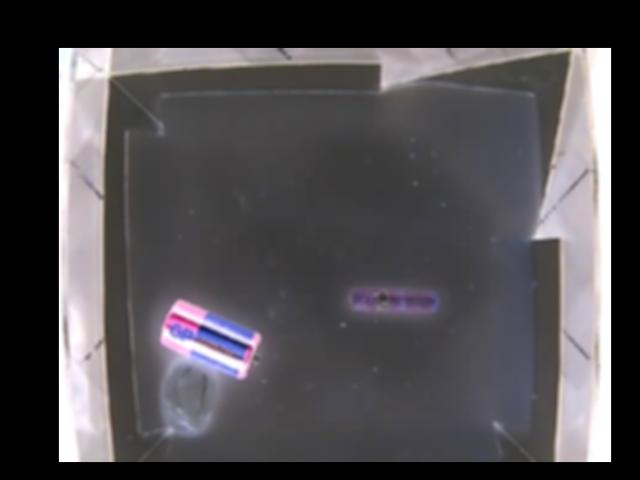Battery: (161, 300, 264, 376), (347, 288, 437, 312)
Pebble: (158, 358, 218, 435)
